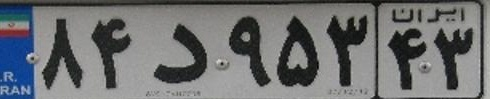character: (146, 9, 216, 93), (319, 6, 372, 94), (222, 8, 276, 93), (274, 6, 324, 92), (36, 10, 86, 93), (88, 9, 136, 90), (428, 23, 477, 94), (384, 26, 431, 94)
